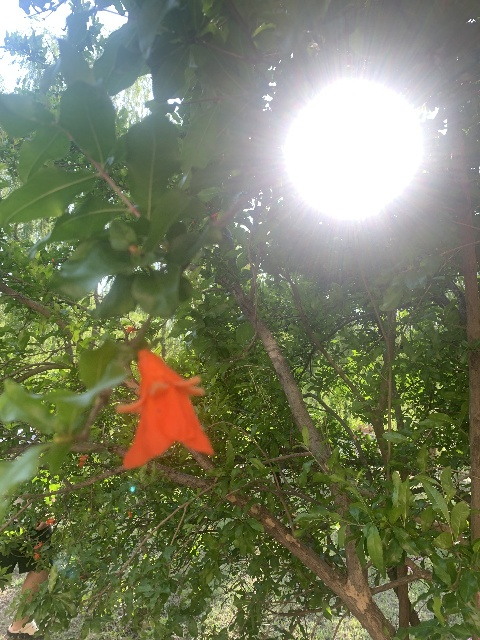flower: (116, 349, 213, 469), (77, 454, 88, 466), (124, 325, 135, 333), (46, 516, 55, 524)
